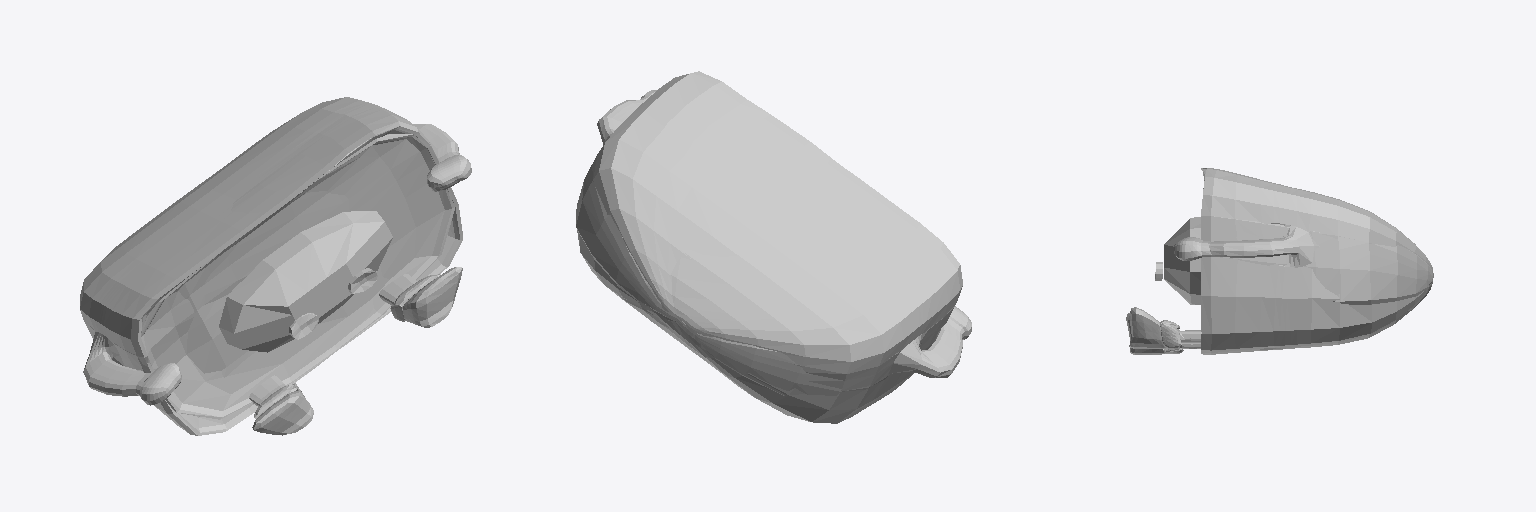
File: Pal_000031.obj
3 views of the same model, side by side, from view 1: azimuth 30°, elevation 25°; view 2: azimuth 150°, elevation 25°; view 3: azimuth 270°, elevation 25° (orthographic).
Parts seen in each view (by area): view 1: Cuerpo_de_aguacate_3.001_Cube.002, Hueso_Cubo.003, Ojos_Cubo.002; view 2: Cuerpo_de_aguacate_3.001_Cube.002; view 3: Cuerpo_de_aguacate_3.001_Cube.002, Hueso_Cubo.003.
Part boxes in pixels (x1,y1,x2,y2): Cuerpo_de_aguacate_3.001_Cube.002: (80, 97, 471, 435); Hueso_Cubo.003: (219, 211, 392, 352); Ojos_Cubo.002: (289, 268, 377, 339); Cuerpo_de_aguacate_3.001_Cube.002: (576, 71, 971, 423); Cuerpo_de_aguacate_3.001_Cube.002: (1126, 168, 1433, 354); Hueso_Cubo.003: (1164, 217, 1200, 304).
Size of the model in its own units: 1.33 by 0.9549 by 1.01.